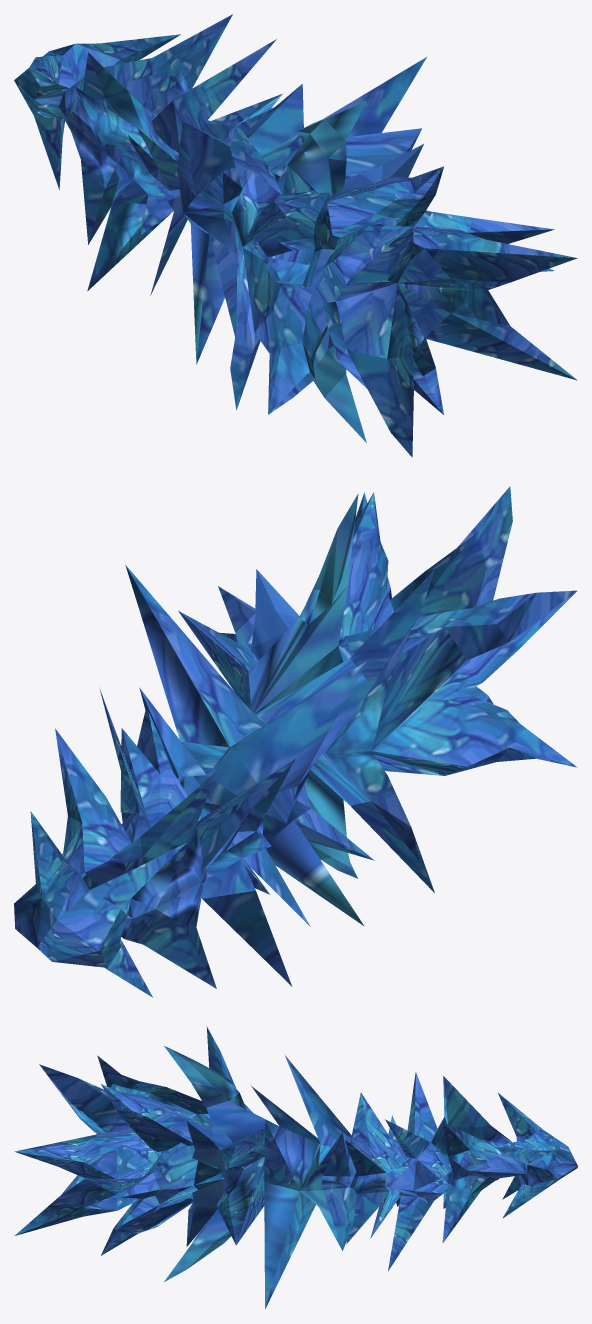
The model's file is bingzhu_01.FBX.
The picture shows the model from 3 angles, top to bottom: view 1: azimuth 30°, elevation 25°; view 2: azimuth 150°, elevation 25°; view 3: azimuth 270°, elevation 25°; orthographic projection. The views are drawn at different scales.
Parts seen in each view (by area): view 1: Object018, Object036, Object022, Object025, Object011, Object017; view 2: Object018, Object022, Object011, Object025, Object017, Object036; view 3: Object018, Object022, Object025, Object036, Object011, Object017.
Part boxes in pixels (x1=…): Object018: x1=230, y1=101, x2=554, y2=442; Object036: x1=322, y1=224, x2=577, y2=457; Object022: x1=177, y1=57, x2=426, y2=364; Object025: x1=74, y1=39, x2=282, y2=295; Object011: x1=59, y1=14, x2=232, y2=244; Object017: x1=14, y1=34, x2=180, y2=190; Object018: x1=178, y1=492, x2=577, y2=892; Object022: x1=125, y1=565, x2=378, y2=926; Object011: x1=55, y1=728, x2=216, y2=988; Object025: x1=100, y1=689, x2=310, y2=986; Object017: x1=14, y1=811, x2=186, y2=997; Object036: x1=339, y1=486, x2=512, y2=704; Object018: x1=97, y1=1026, x2=273, y2=1281; Object022: x1=251, y1=1055, x2=356, y2=1309; Object025: x1=345, y1=1072, x2=451, y2=1271; Object036: x1=14, y1=1064, x2=161, y2=1235; Object011: x1=430, y1=1076, x2=525, y2=1242; Object017: x1=493, y1=1093, x2=577, y2=1218.
Bounding box in the file's own units: 357 × 385 × 830.
Materials: 1 (1 with a texture image).
